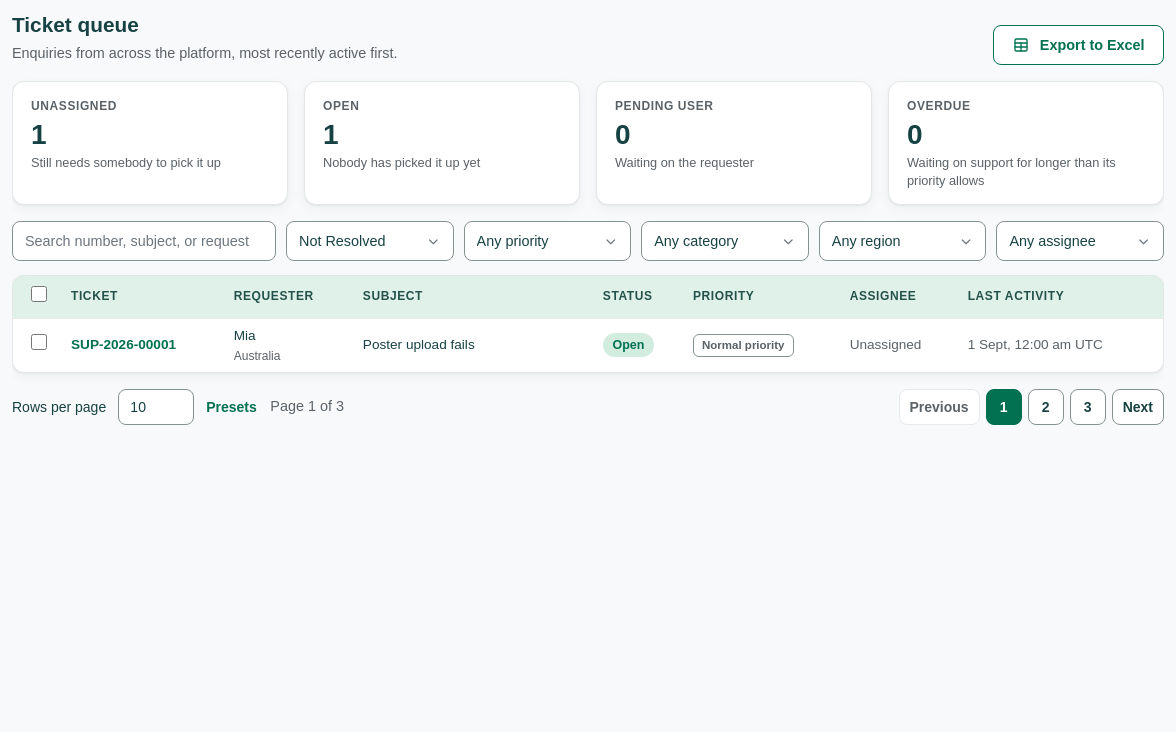
the bulk assign failure message › goes away with the selection rather than outliving it
The width and height of the screenshot is (1176, 732).
Click the checkbox named "Select SUP-2026-00001": [39, 342] box [31,334,47,350]
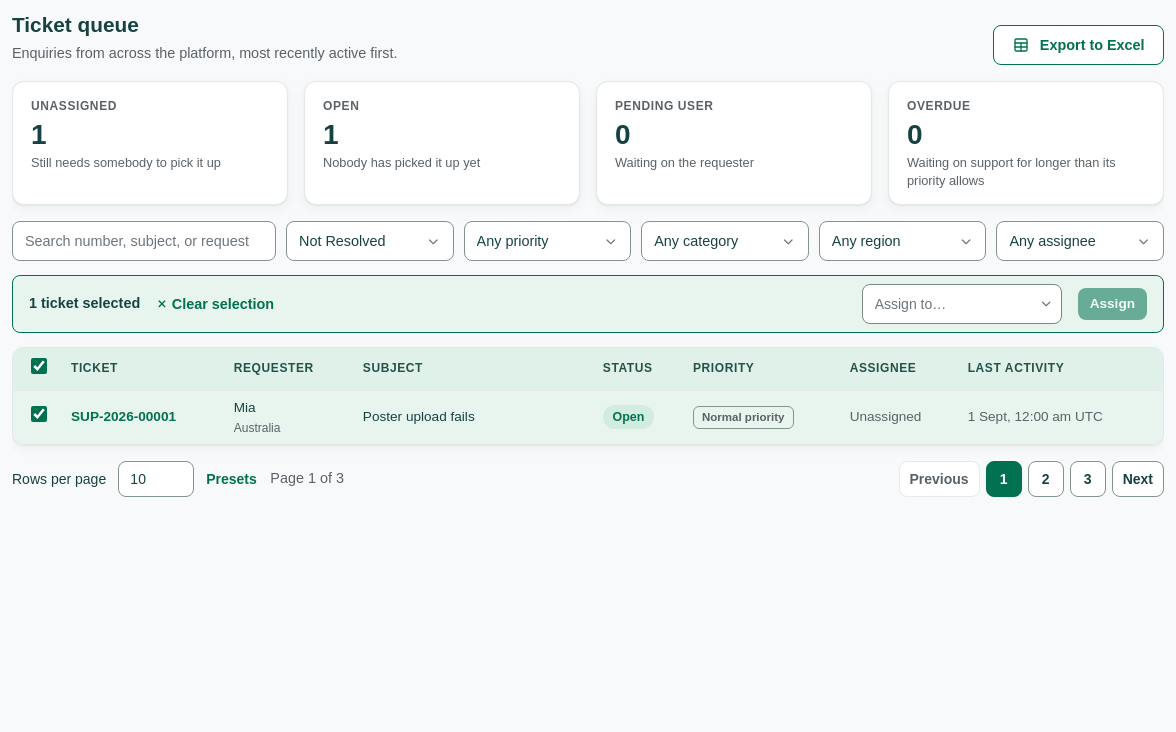
Press the mouse on the element named "Assign to": [962, 304] box [862,284,1062,324]
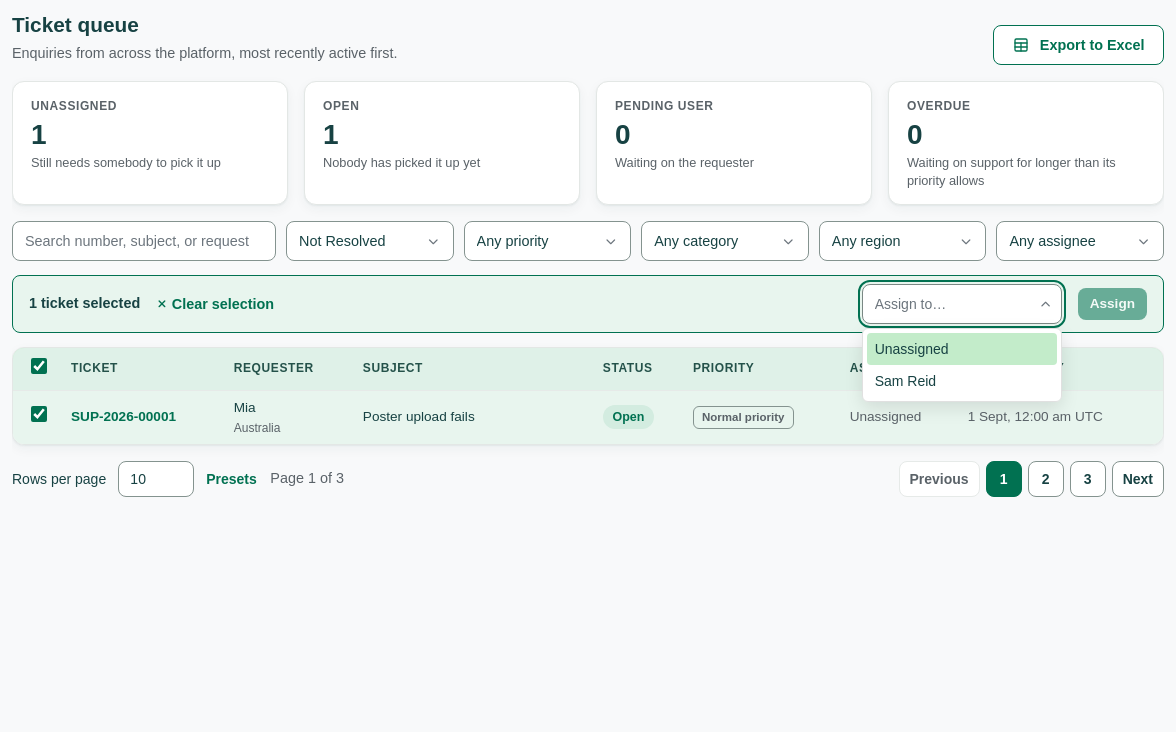
Press the mouse on the option "Sam Reid": [905, 381] box [875,373,936,389]
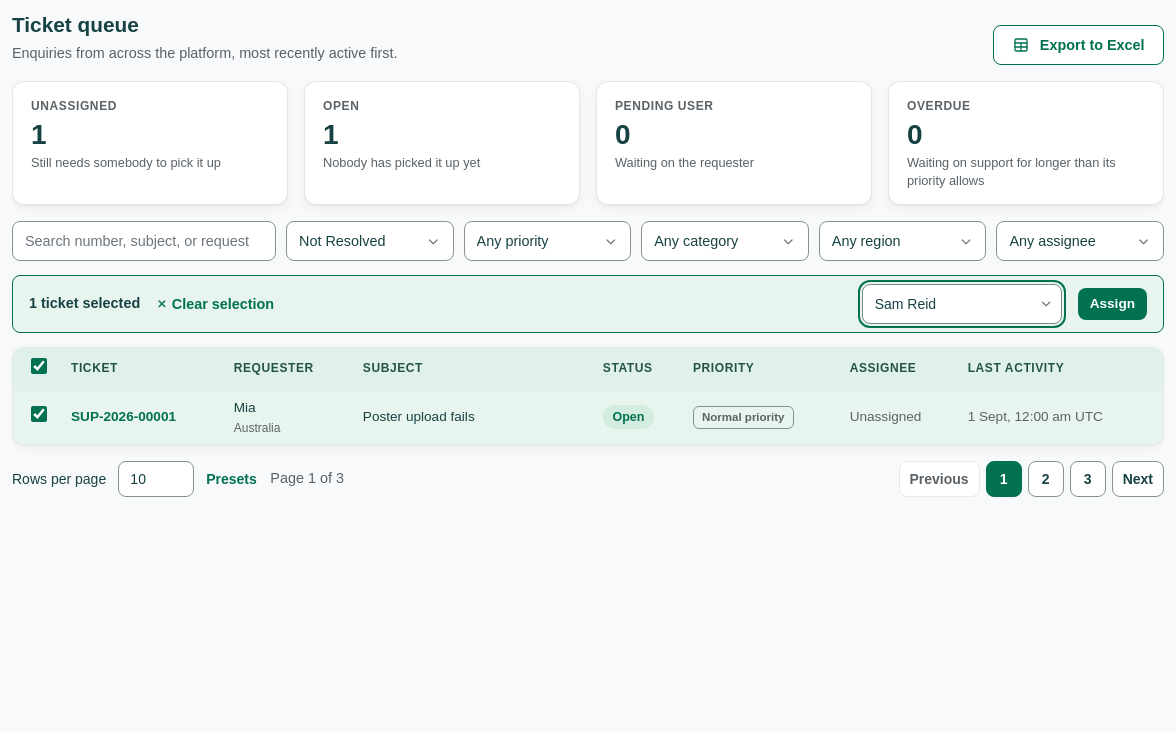
Click the button "Assign": [1112, 304] box [1078,288,1147,320]
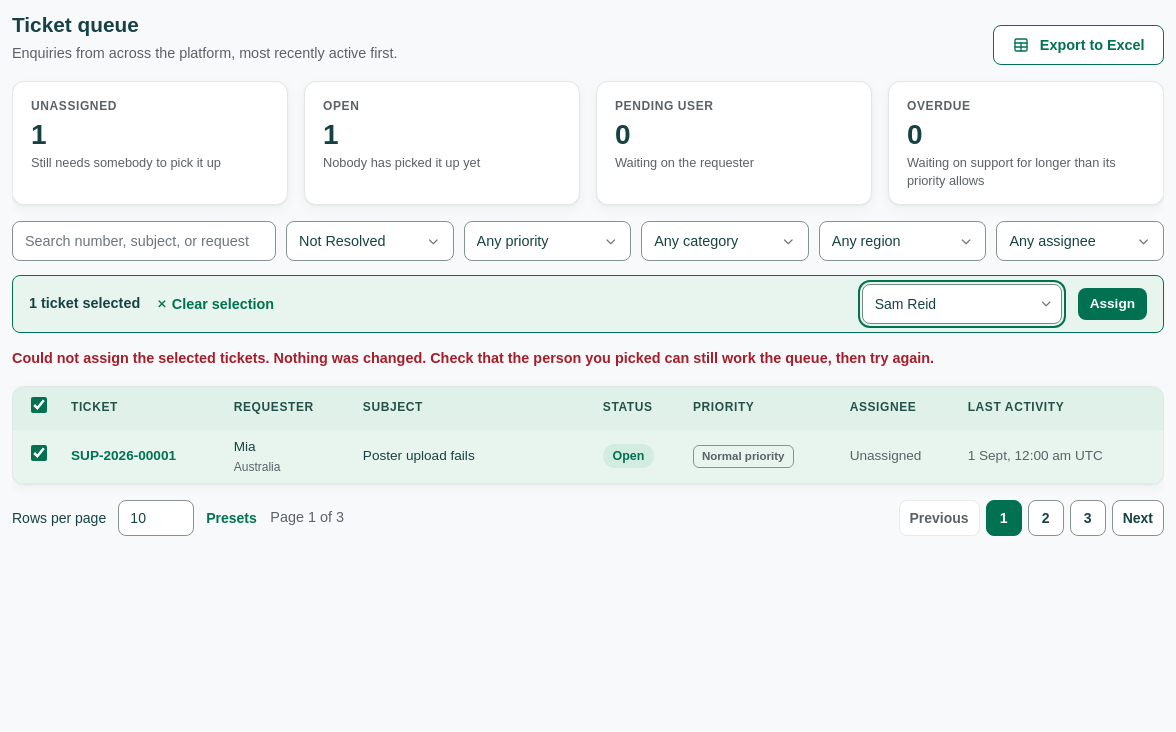
Click the button "Clear selection": [216, 304] box [148,291,284,317]
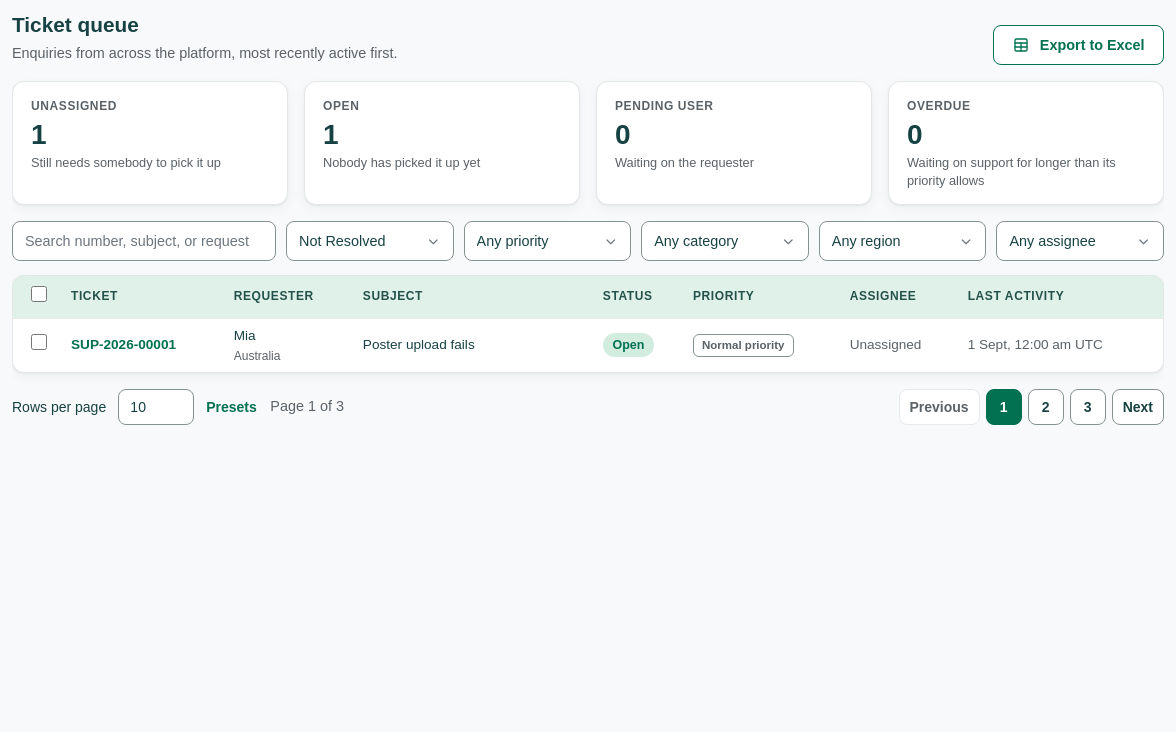
Now the text "Could not assign the selected tickets" is gone
